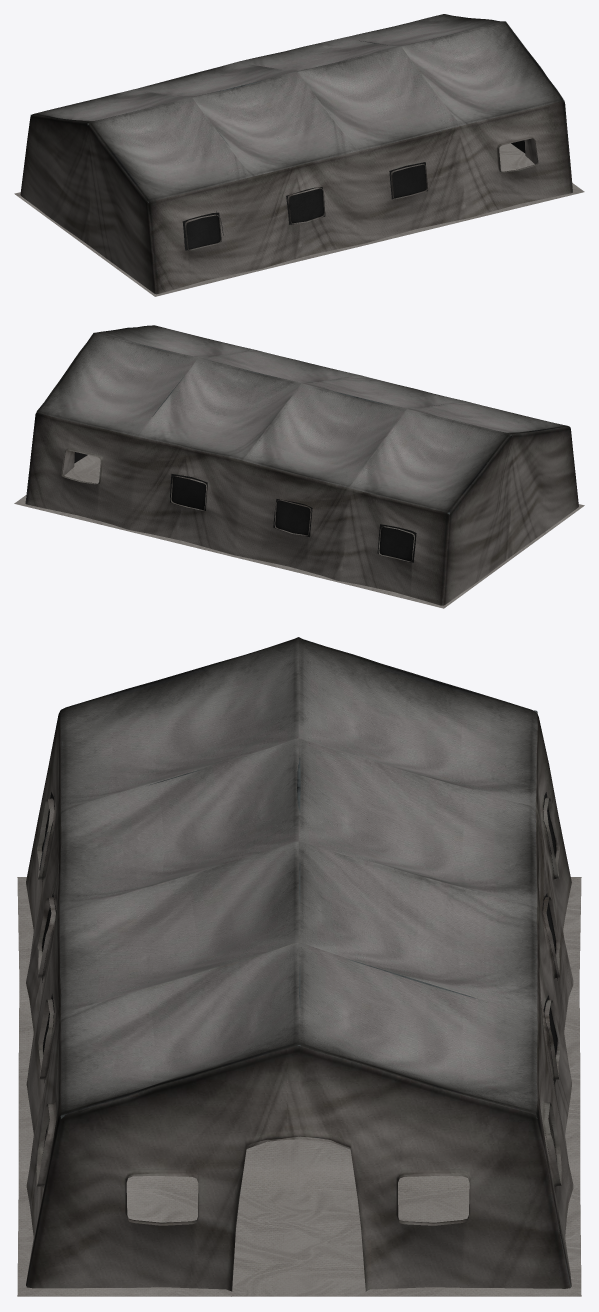
The model's file is HomeLayout.fbx.
3 views of the same model, one above another, from view 1: azimuth 30°, elevation 25°; view 2: azimuth 150°, elevation 25°; view 3: azimuth 270°, elevation 25° (orthographic). The views are drawn at different scales.
Visible parts, largest first — view 1: Tent, TentGround; view 2: Tent, TentGround; view 3: Tent, TentGround.
Part boxes in pixels (x1,y1,x2,y2): Tent: (20, 14, 572, 294); TentGround: (14, 143, 584, 296); Tent: (25, 325, 578, 605); TentGround: (14, 455, 584, 608); Tent: (26, 637, 573, 1291); TentGround: (17, 877, 581, 1296).
Bounding box in the file's own units: 15.47 × 4.24 × 8.79.
